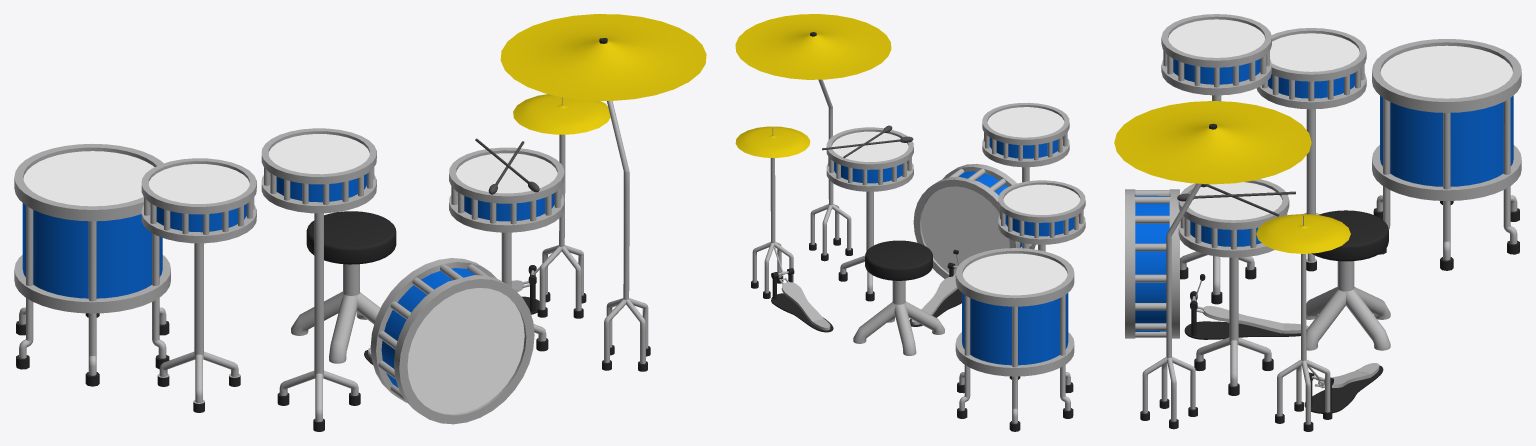
Rendered from schlagzeug.glb.
3 renders of one model, left to right at view 1: azimuth 30°, elevation 25°; view 2: azimuth 150°, elevation 25°; view 3: azimuth 270°, elevation 25°, orthographic. The views are drawn at different scales.
Visible parts, largest first — view 1: Floor_Tom, Kick, Crash, Tom1, Tom2, Snare, Stool, Hi-Hat; view 2: Floor_Tom, Crash, Kick, Snare, Tom1, Tom2, Stool, Hi-Hat, Hi-Hat_Pedal, Pedal.001, Pedal, Kick_Pedal (+1 smaller); view 3: Floor_Tom, Crash, Tom1, Snare, Tom2, Kick, Stool, Hi-Hat, Kick_Pedal, Hi-Hat_Pedal, Pedal, Drumsticks (+1 smaller).
Part boxes in pixels (x1,y1,x2,y2): Floor_Tom: (14,143,170,386); Kick: (370,258,534,424); Crash: (500,14,706,371); Tom1: (261,128,376,431); Tom2: (141,158,256,412); Snare: (449,147,564,351); Stool: (291,211,396,363); Hi-Hat: (513,94,610,318); Floor_Tom: (955,248,1074,431); Crash: (735,14,891,261); Kick: (913,163,1035,278); Snare: (826,127,913,301); Tom1: (982,102,1069,248); Tom2: (998,180,1085,251); Stool: (853,240,944,355); Hi-Hat: (735,126,810,298); Hi-Hat_Pedal: (771,268,833,332); Pedal.001: (774,246,823,323); Pedal: (921,249,958,315); Kick_Pedal: (909,262,961,326); Floor_Tom: (1372,39,1521,270); Crash: (1114,101,1311,429); Tom1: (1161,14,1271,304); Snare: (1178,179,1289,395); Tom2: (1256,28,1366,271); Kick: (1125,189,1179,338); Stool: (1306,210,1390,350); Hi-Hat: (1256,214,1350,431); Kick_Pedal: (1184,291,1308,339); Hi-Hat_Pedal: (1304,363,1383,413); Pedal: (1192,274,1283,333); Drumsticks: (1177,184,1295,216).
Bounding box in the file's own units: 6.7 × 3.52 × 4.46.
